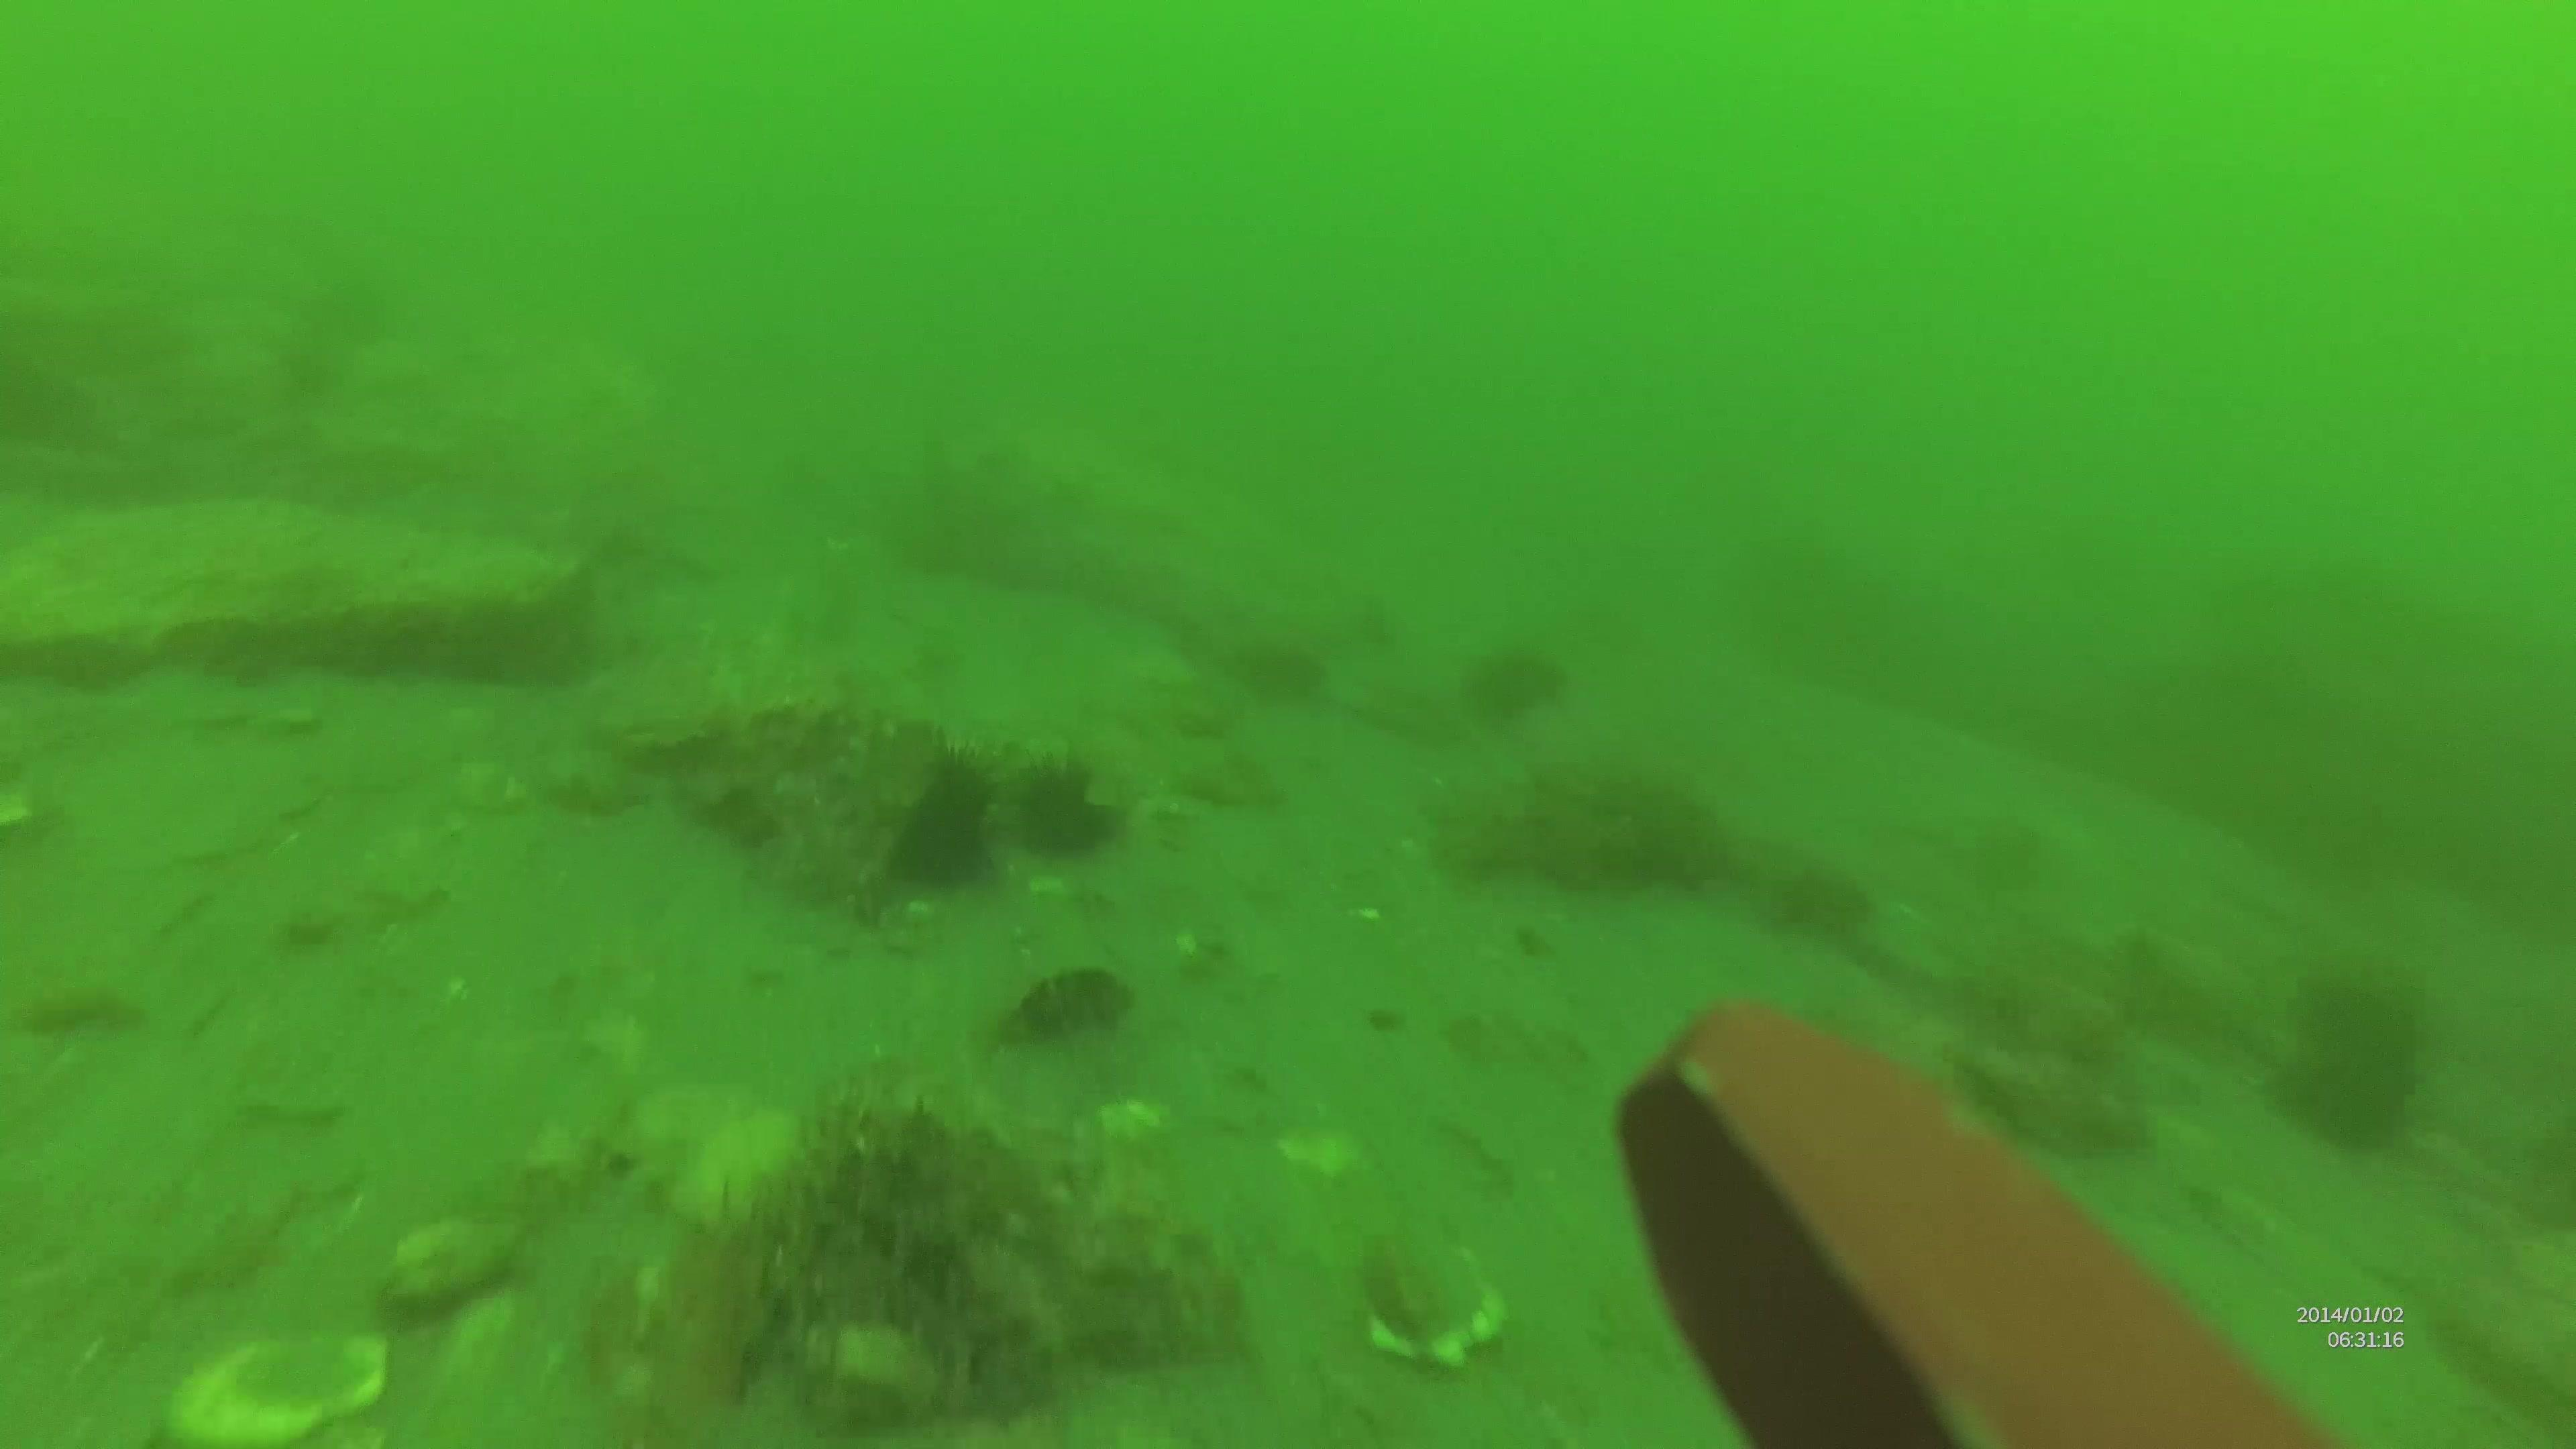echinus: (1454, 630, 1571, 717), (911, 747, 994, 858)
